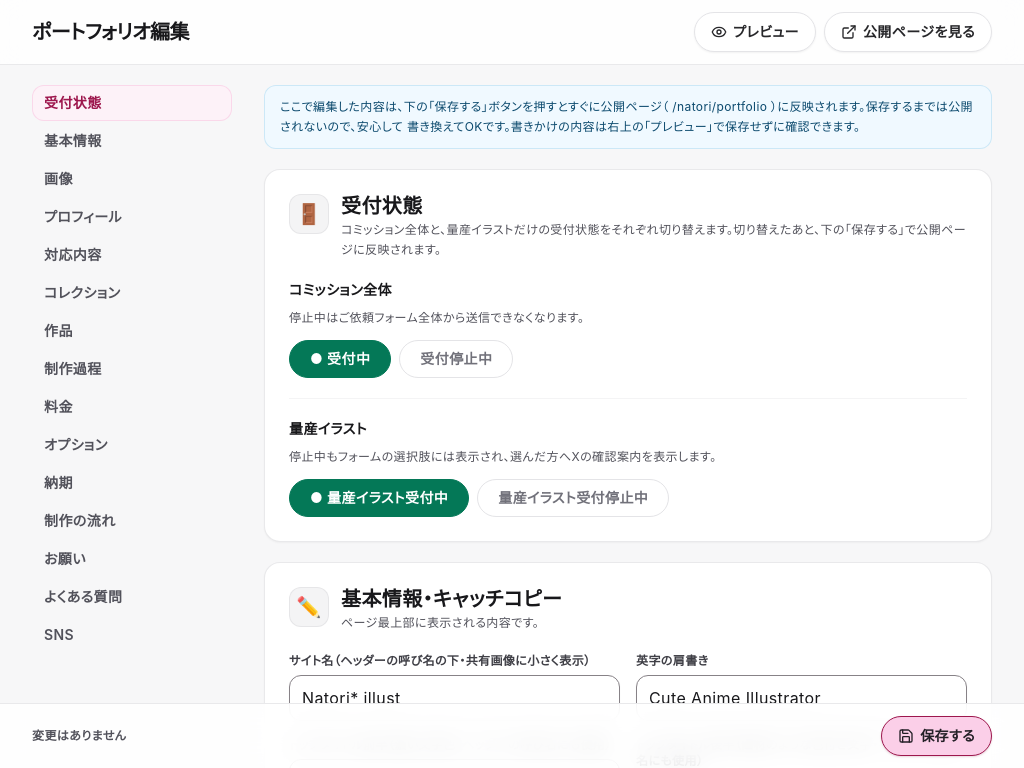
Test case: editor save concurrency › preserves edits made during save, prevents another in-flight request and uses returned revision next
This screenshot has width=1024, height=768.
Replace the text in the field labelled "サイト名（ヘッダーの呼び名の下・共有画像に小さく表示）" with "First" at (454, 698), box [289,675,620,721]
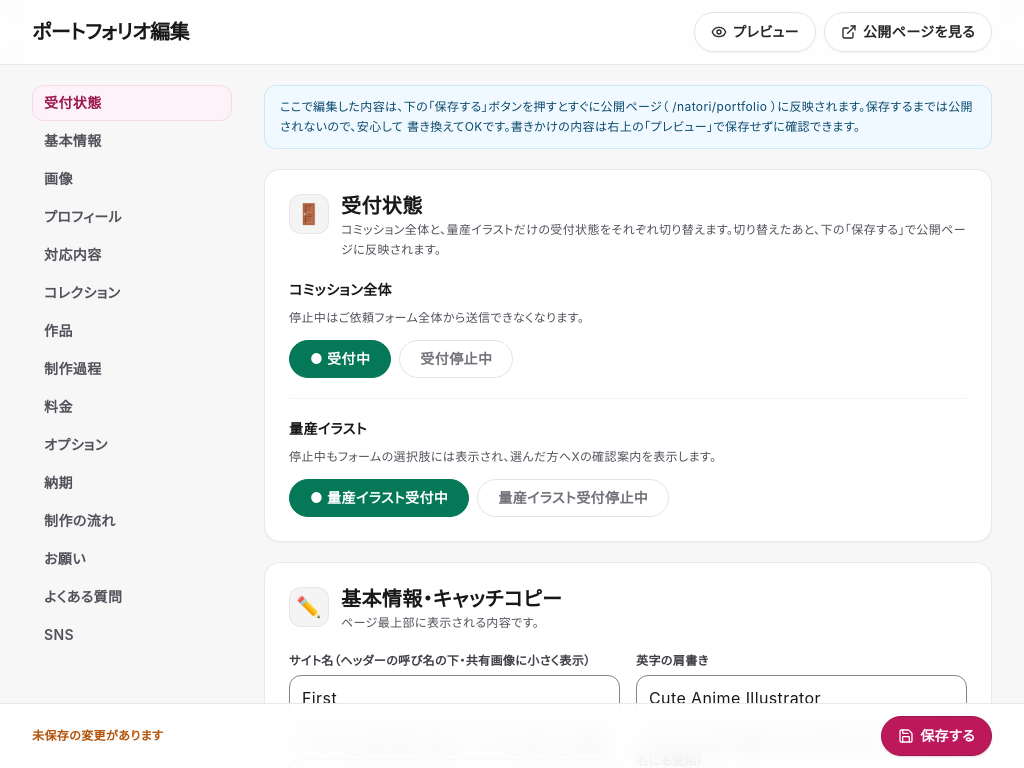
Click the button "保存する".
click(937, 736)  # box [881,716,992,756]
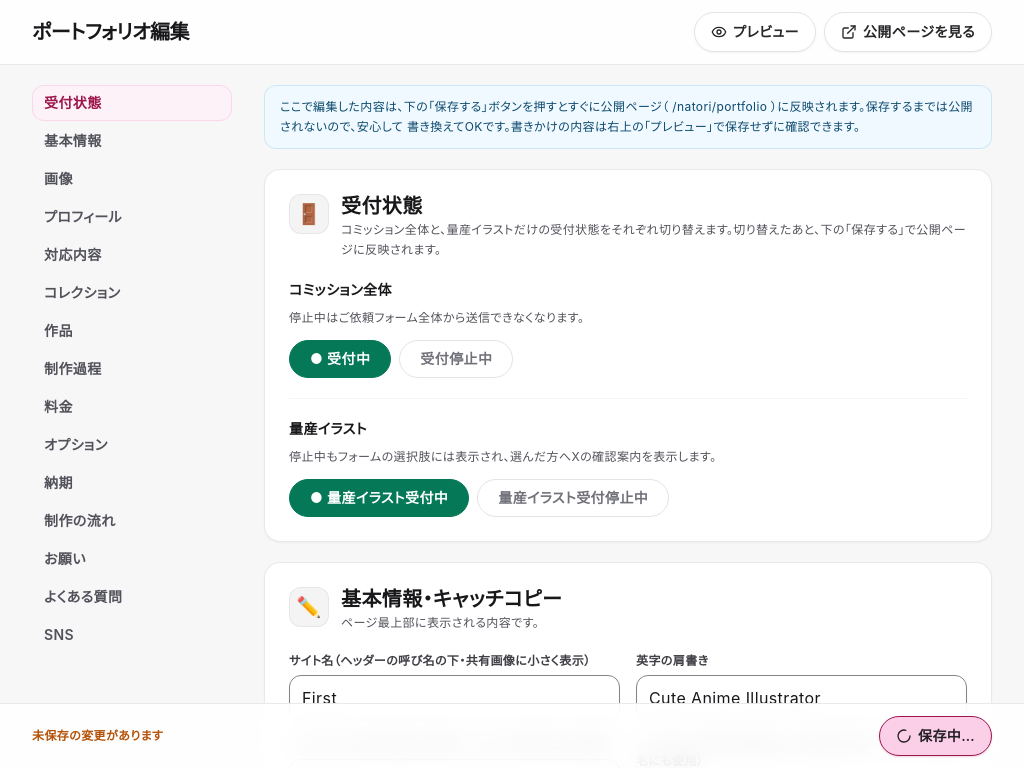
Replace the text in the field labelled "サイト名（ヘッダーの呼び名の下・共有画像に小さく表示）" with "Second" at (454, 698), box [289,675,620,721]
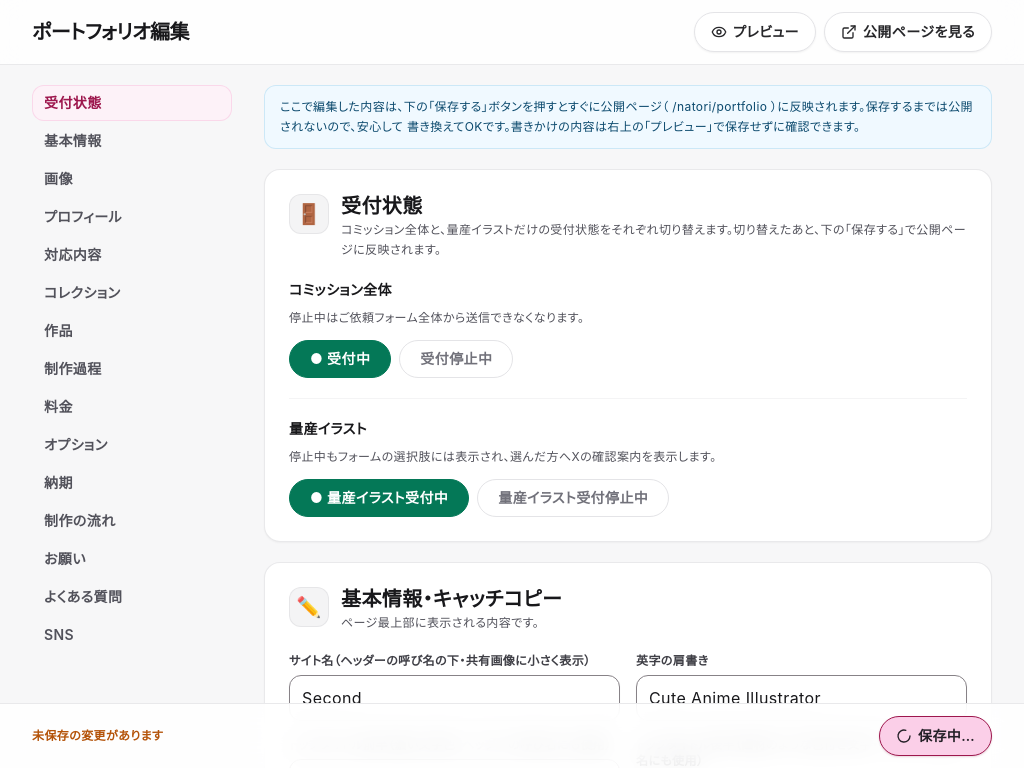
Click the button "保存中…".
click(936, 736)  # box [879,716,992,756]
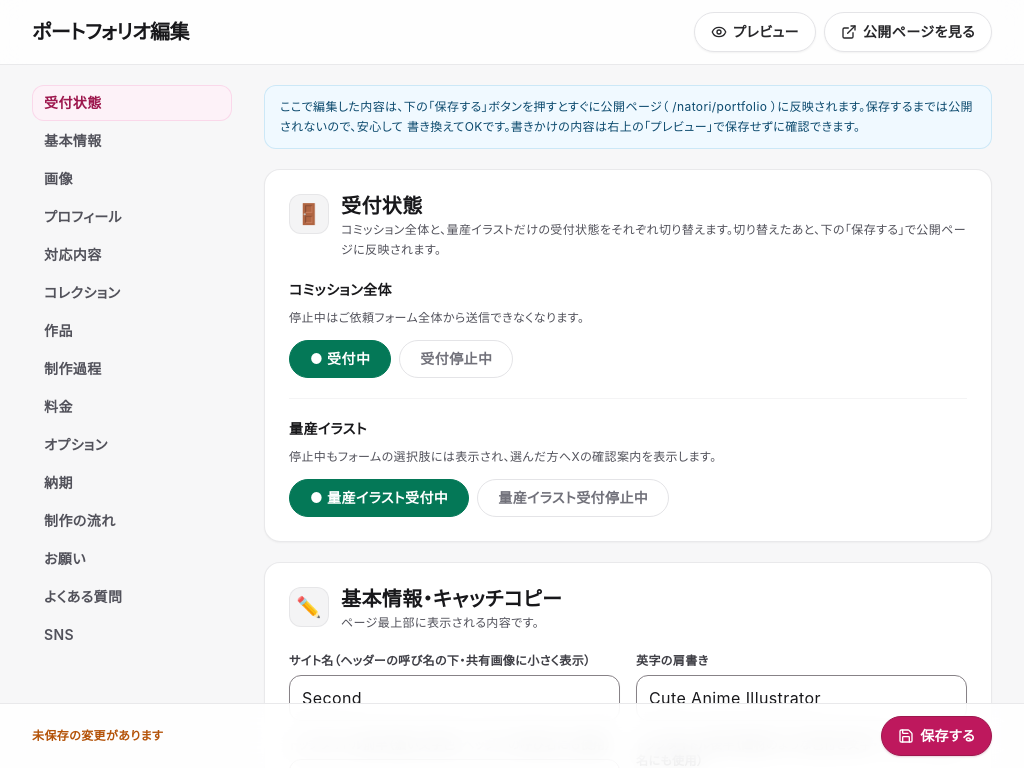
Check: the element showing "未保存の変更があります" is shown, box [32,728,163,744]
Click the button "保存する".
click(937, 736)  # box [881,716,992,756]
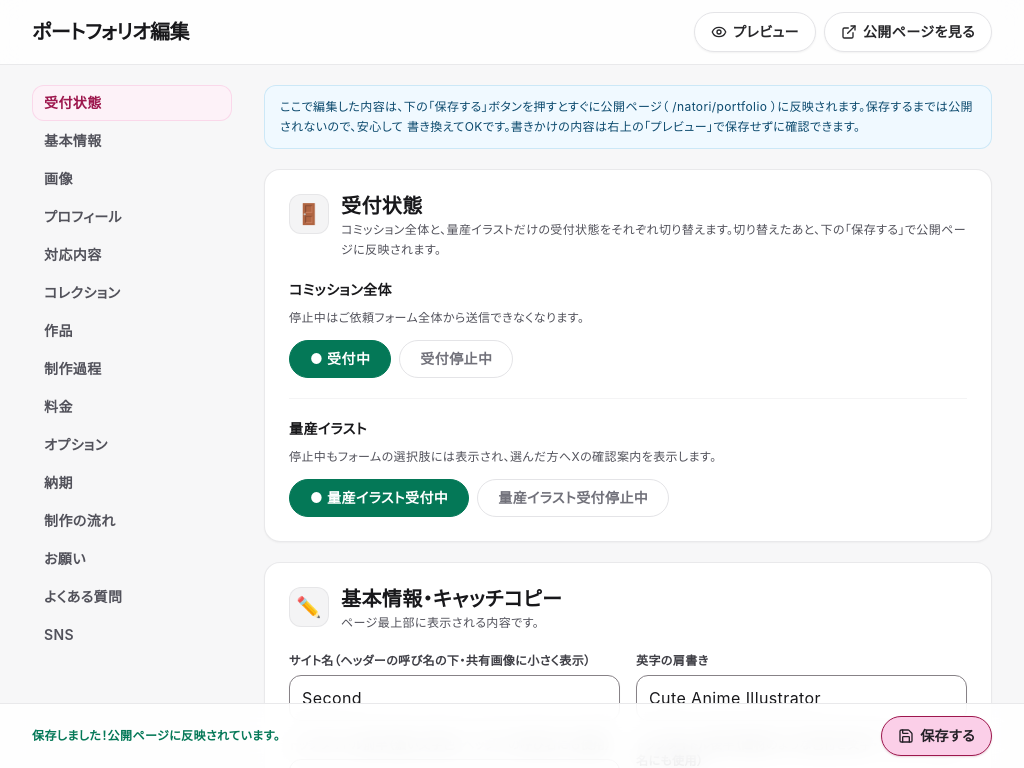
Check: the element showing "保存しました！公開ページに反映されています。" is shown, box [32,728,280,744]
